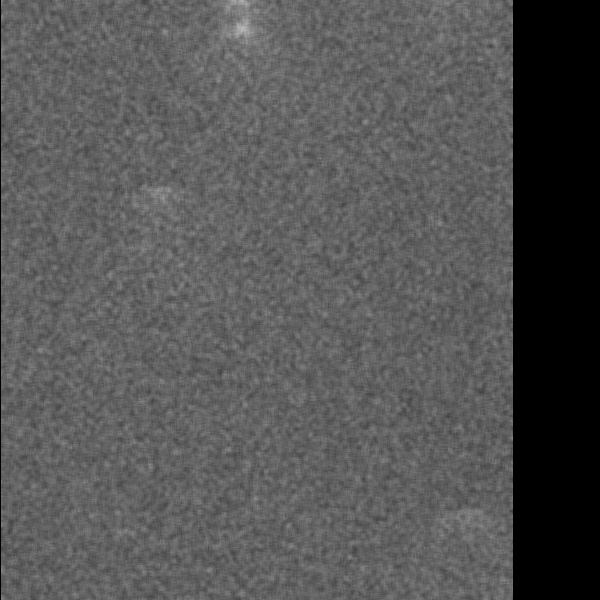spark: (222, 2, 261, 72), (150, 183, 167, 215)
